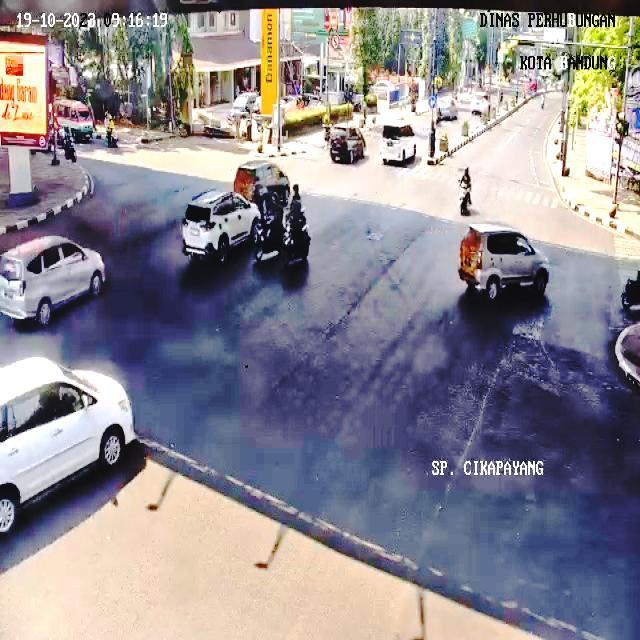car: (0, 358, 135, 532), (0, 236, 106, 324), (459, 225, 549, 299), (181, 192, 260, 262), (234, 160, 290, 201), (381, 125, 416, 164), (329, 126, 365, 163)
motorcyclist: (234, 161, 310, 264), (284, 185, 310, 265), (459, 168, 471, 216), (104, 112, 118, 147), (64, 138, 76, 162)
